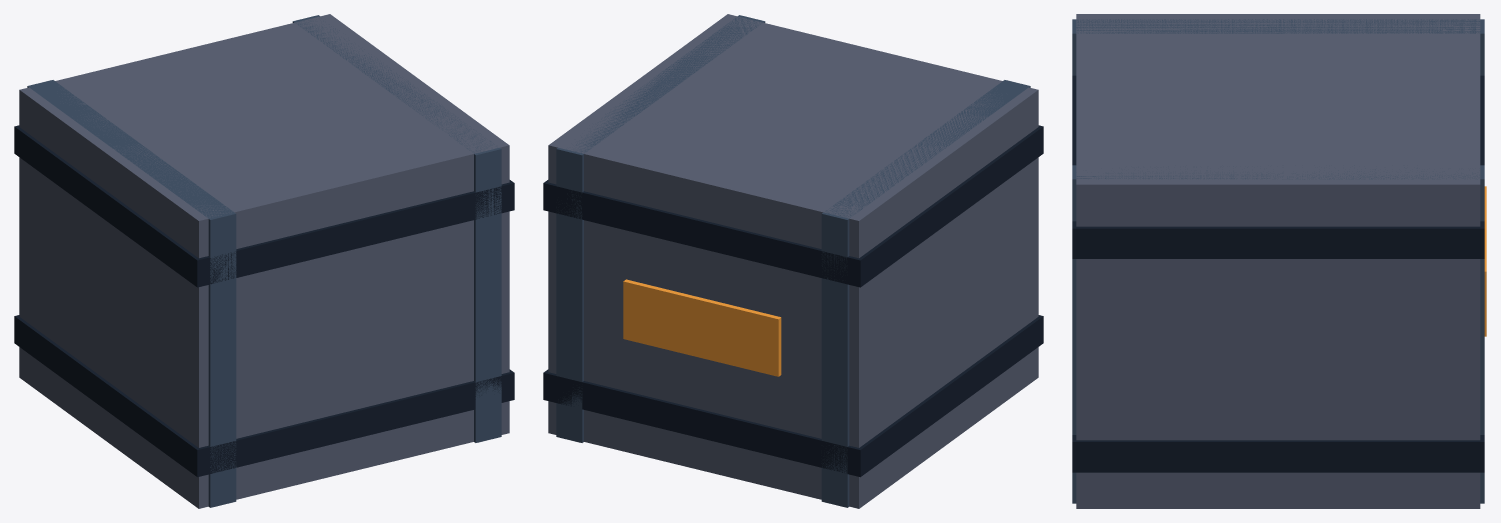
The model's file is env_crate.obj.
3 views of the same model, side by side, from view 1: azimuth 30°, elevation 25°; view 2: azimuth 150°, elevation 25°; view 3: azimuth 270°, elevation 25° (orthographic). The views are drawn at different scales.
Bounding box in the file's own units: 0.98 × 0.85 × 0.985.
